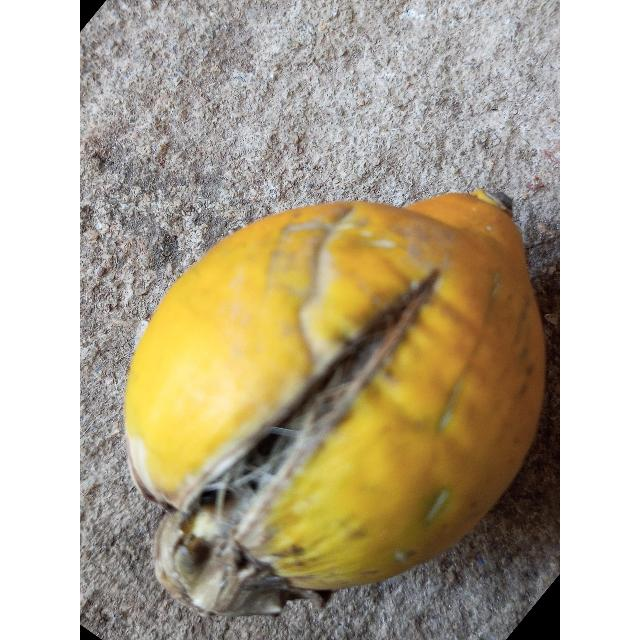damaged: (123, 189, 548, 620)
